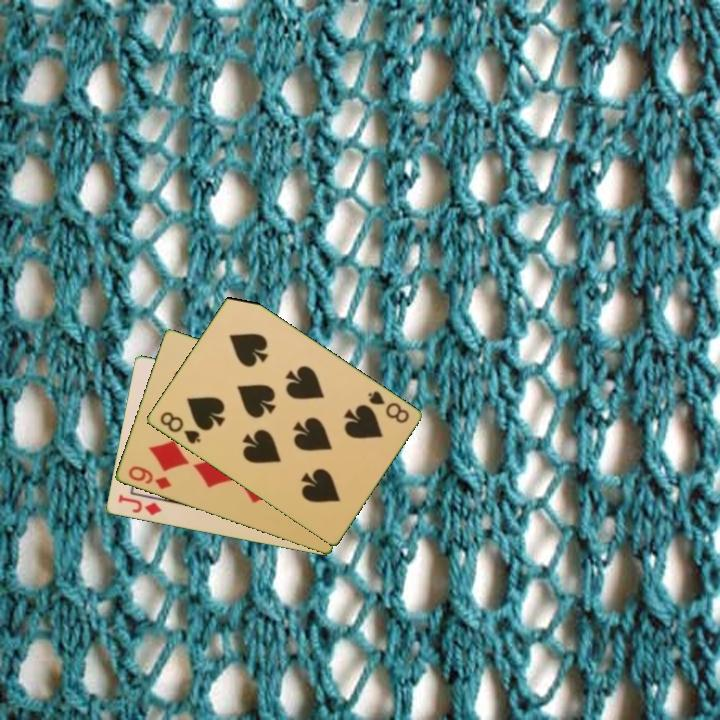8s: (364, 387, 412, 426), (156, 408, 203, 447)
9d: (124, 463, 174, 493)
Jd: (114, 491, 164, 519)
